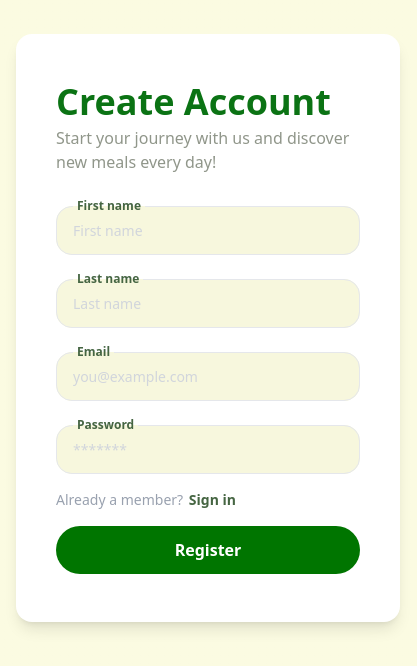
Scenario: RegisterPage › should show error if fields are empty
Click the button "Register". click: [208, 550]
box: [56,526,360,574]
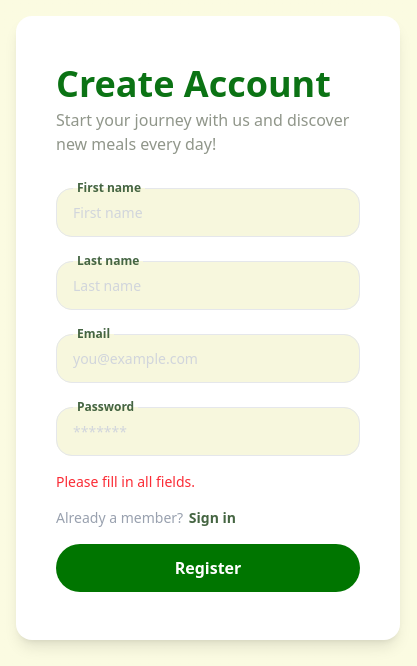
Expected: the text "Please fill in all fields." is shown, [56,472,195,491]
